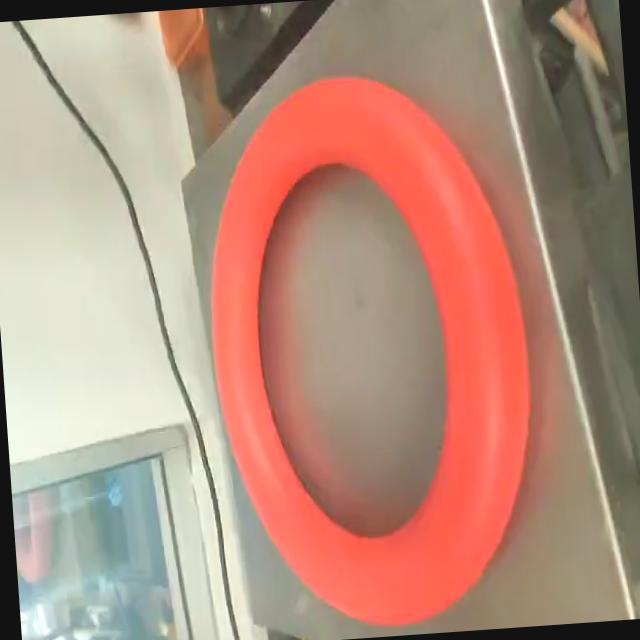note: (176, 60, 565, 640), (12, 463, 52, 582)
